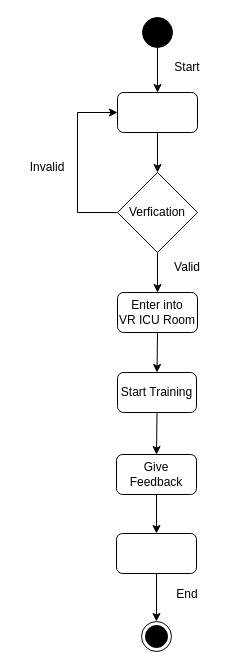
The diagram is 234 pixels wide and 669 high, and some of its shapes have lost their labels. Each missing label, with the centre of its shape:
"Login" belongs at [157,112].
"Logout" belongs at [156,553].
